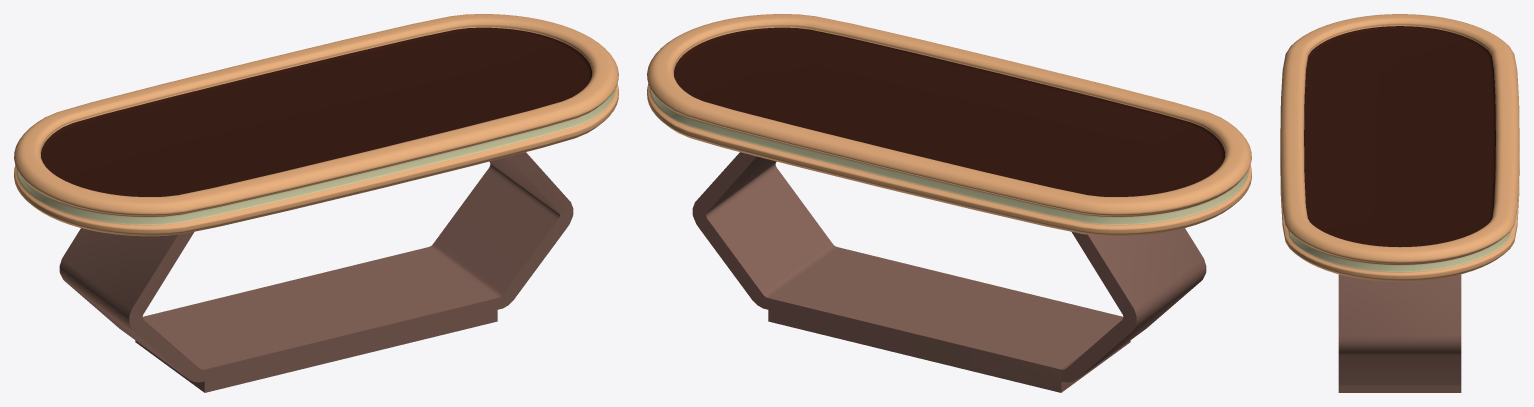
The model's file is Poker Table.fbx.
3 views of the same model, side by side, from view 1: azimuth 30°, elevation 25°; view 2: azimuth 150°, elevation 25°; view 3: azimuth 270°, elevation 25° (orthographic). The views are drawn at different scales.
Parts seen in each view (by area): view 1: table, rack; view 2: table, rack; view 3: table, rack.
Part boxes in pixels (x1=…): table: x1=14, y1=14, x2=618, y2=236; rack: x1=59, y1=152, x2=573, y2=392; table: x1=647, y1=14, x2=1251, y2=236; rack: x1=692, y1=152, x2=1206, y2=392; table: x1=1280, y1=14, x2=1519, y2=281; rack: x1=1338, y1=274, x2=1461, y2=392.
Bounding box in the file's own units: 943 × 355 × 391.
